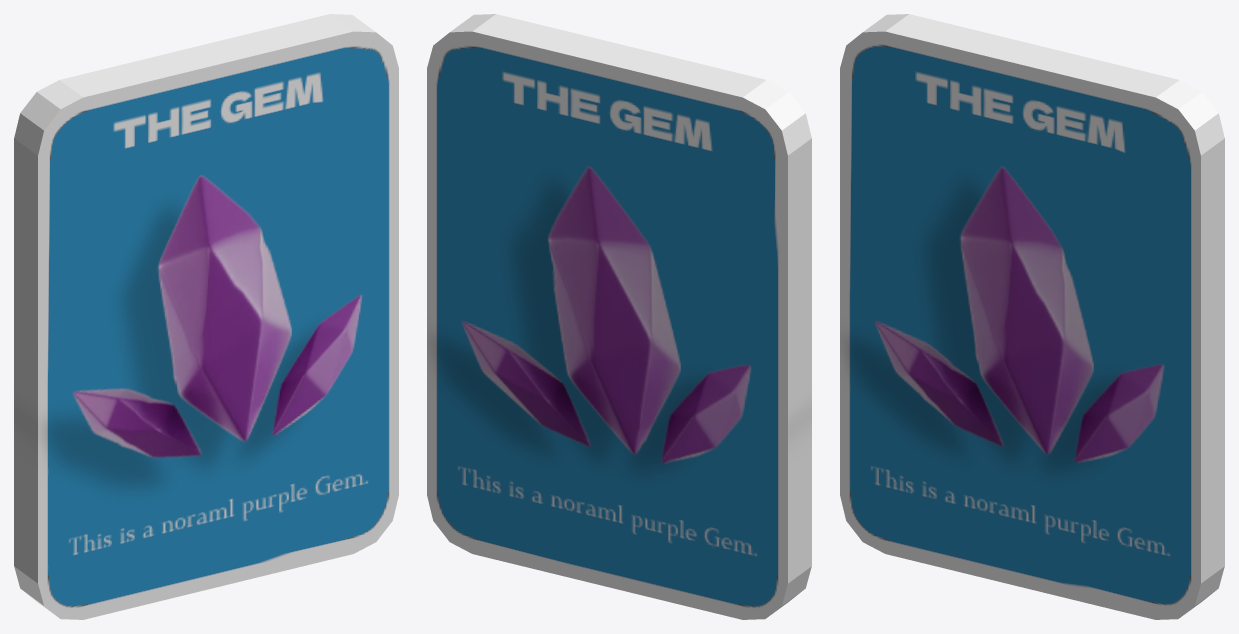
File: CardModel.fbx
The picture shows the model from 3 angles, left to right: view 1: azimuth 30°, elevation 25°; view 2: azimuth 150°, elevation 25°; view 3: azimuth 330°, elevation 25°; orthographic projection.
Visible parts, largest first — view 1: Plane; view 2: Plane; view 3: Plane.
Part boxes in pixels (<box>): Plane: <box>14,14,398,619</box>; Plane: <box>427,14,811,619</box>; Plane: <box>840,14,1224,619</box>.
Bounding box in the file's own units: 3.48 × 4.81 × 0.4.
1 material, 1 textured.
